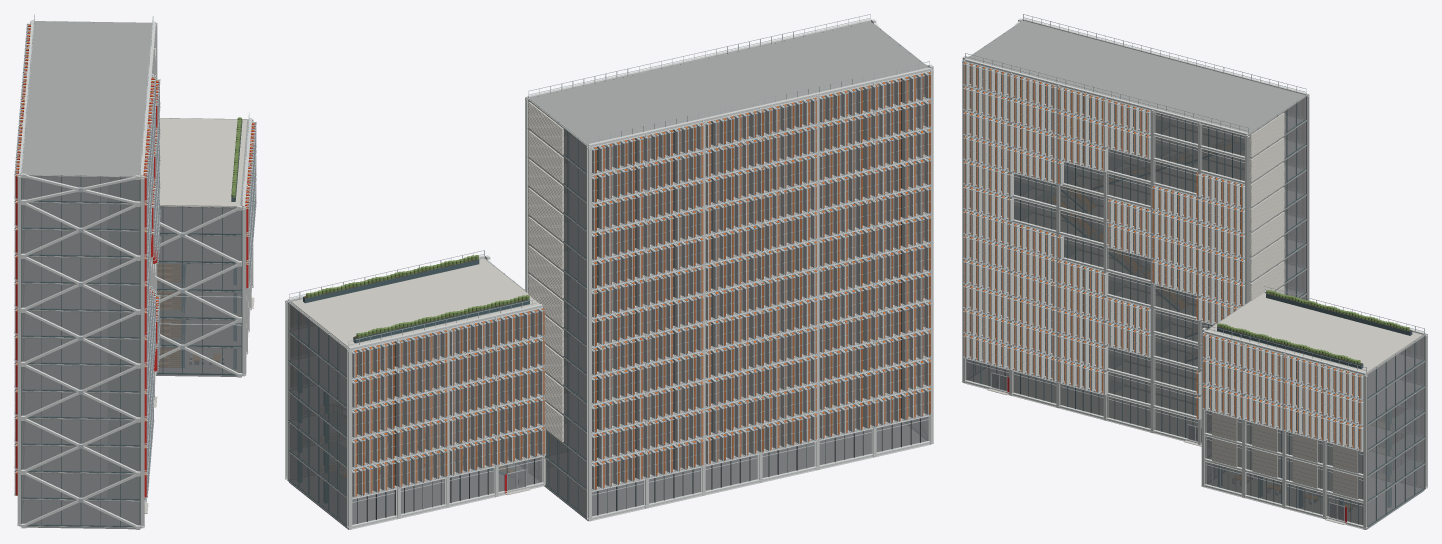
The model's file is cbg-exterior-06656c5da2b1.glb.
3 renders of one model, left to right at view 1: azimuth 30°, elevation 25°; view 2: azimuth 150°, elevation 25°; view 3: azimuth 270°, elevation 25°, orthographic. The views are drawn at different scales.
Parts seen in each view (by area): view 1: CBG.001; view 2: CBG.001; view 3: CBG.001.
Part boxes in pixels (box(x1,y1,x2,y2)): CBG.001: box(14, 14, 256, 529); CBG.001: box(285, 14, 933, 529); CBG.001: box(962, 14, 1427, 529).
Size of the model in its own units: 66.1 by 53.56 by 68.49.
